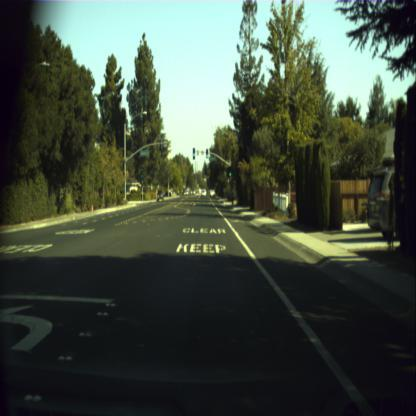Green: (228, 166, 232, 177), (205, 148, 208, 158), (140, 170, 143, 178)
GreenLeft: (192, 148, 196, 160)
